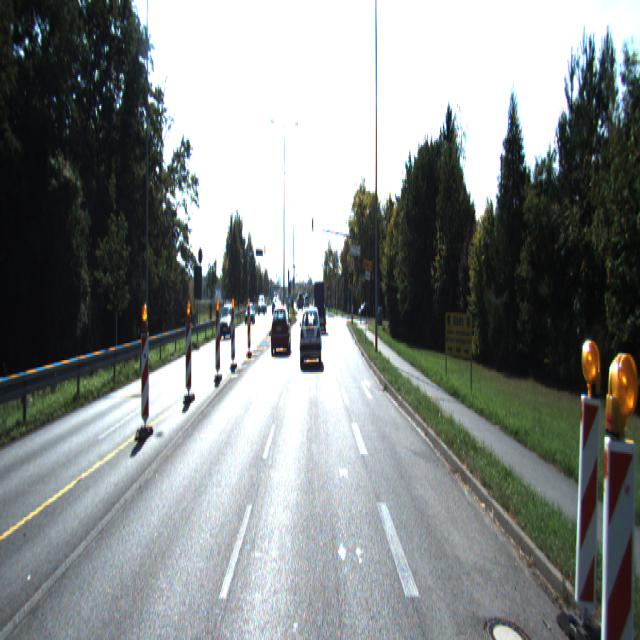Car: (300, 311, 321, 368), (270, 309, 291, 358), (219, 302, 235, 341), (314, 282, 325, 332)
